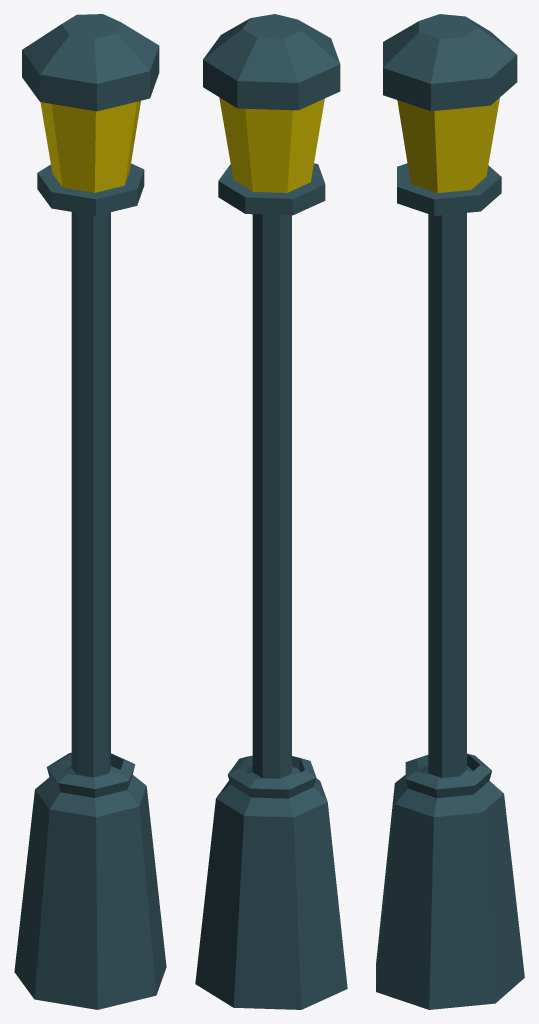
Rendered from streetlight.fbx.
3 renders of one model, left to right at view 1: azimuth 30°, elevation 25°; view 2: azimuth 150°, elevation 25°; view 3: azimuth 270°, elevation 25°, orthographic.
Parts seen in each view (by area): view 1: Cylinder.002; view 2: Cylinder.002; view 3: Cylinder.002.
Part boxes in pixels (x1=…): Cylinder.002: x1=14, y1=14, x2=166, y2=1009; Cylinder.002: x1=195, y1=14, x2=347, y2=1009; Cylinder.002: x1=376, y1=14, x2=524, y2=1009.
Size of the model in its own units: 333 by 2286 by 324.
